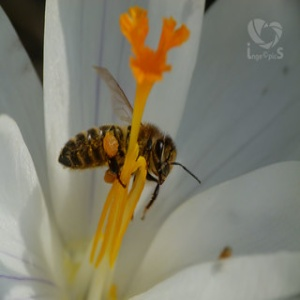bee: (60, 121, 182, 190)
